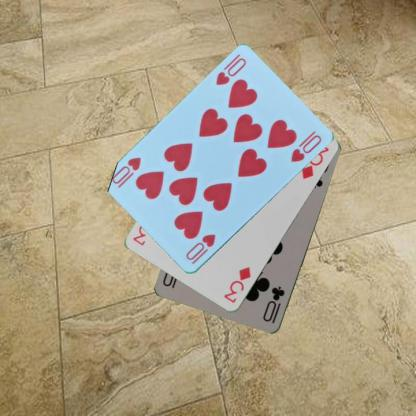10c: (260, 284, 286, 324)
10h: (213, 54, 247, 88), (182, 232, 216, 262)
3d: (221, 264, 252, 304)
